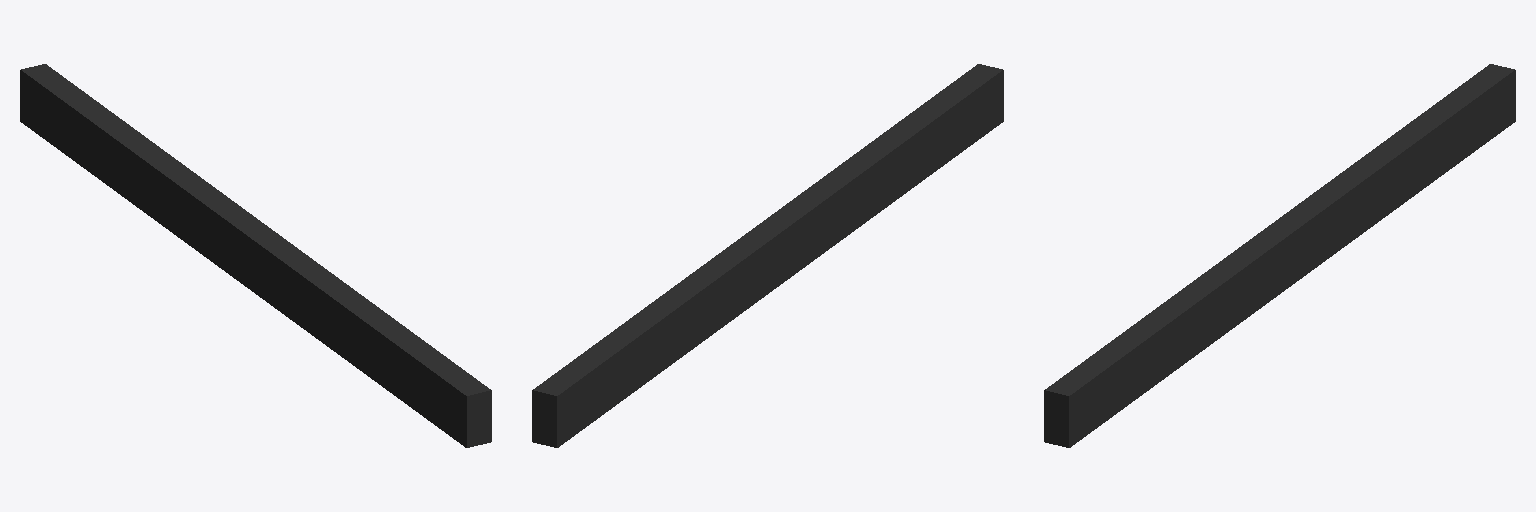
The robot description file, URDF, robot "wall":
<robot name="wall">
  <link name="baseLink">
   
    <inertial>
      <origin rpy="0 0 0" xyz="0 0 0" />
       <mass value="0" />
       <inertia ixx="0" ixy="0" ixz="0" iyy="0" iyz="0" izz="0" />
    </inertial>
    <visual>
      <origin rpy="0 0 0" xyz="0 0 0" />
      <geometry>
			  <box size="0.5 15.5 1" />
      </geometry>
       <material name="grey">
        <color rgba="0.24 0.24 0.24 1" />
      </material>
    </visual>
    <collision>
      <origin rpy="0 0 0" xyz="0 0 0" />
      <geometry>
	 	      <box size="0.5 15.5 1" />
      </geometry>
    </collision>
  </link>
</robot>

--- Facts derived from the render (not from the file) ---
Views: 3 orthographic renders of the robot side by side, from view 1: azimuth 30°, elevation 25°; view 2: azimuth 150°, elevation 25°; view 3: azimuth 330°, elevation 25°.
Robot: wall — 1 links, 0 joints (none); root link baseLink; default pose: every joint at zero.
Visible links, largest first — view 1: baseLink; view 2: baseLink; view 3: baseLink.
Boxes of the visible links, x1,y1,x2,y2 form: baseLink: (20,64,491,447); baseLink: (532,64,1003,447); baseLink: (1044,64,1515,447).
Size in the robot's own frame: 0.5 by 15.5 by 1 metres.
Geometry: primitives only (box / cylinder / sphere), no mesh files.
